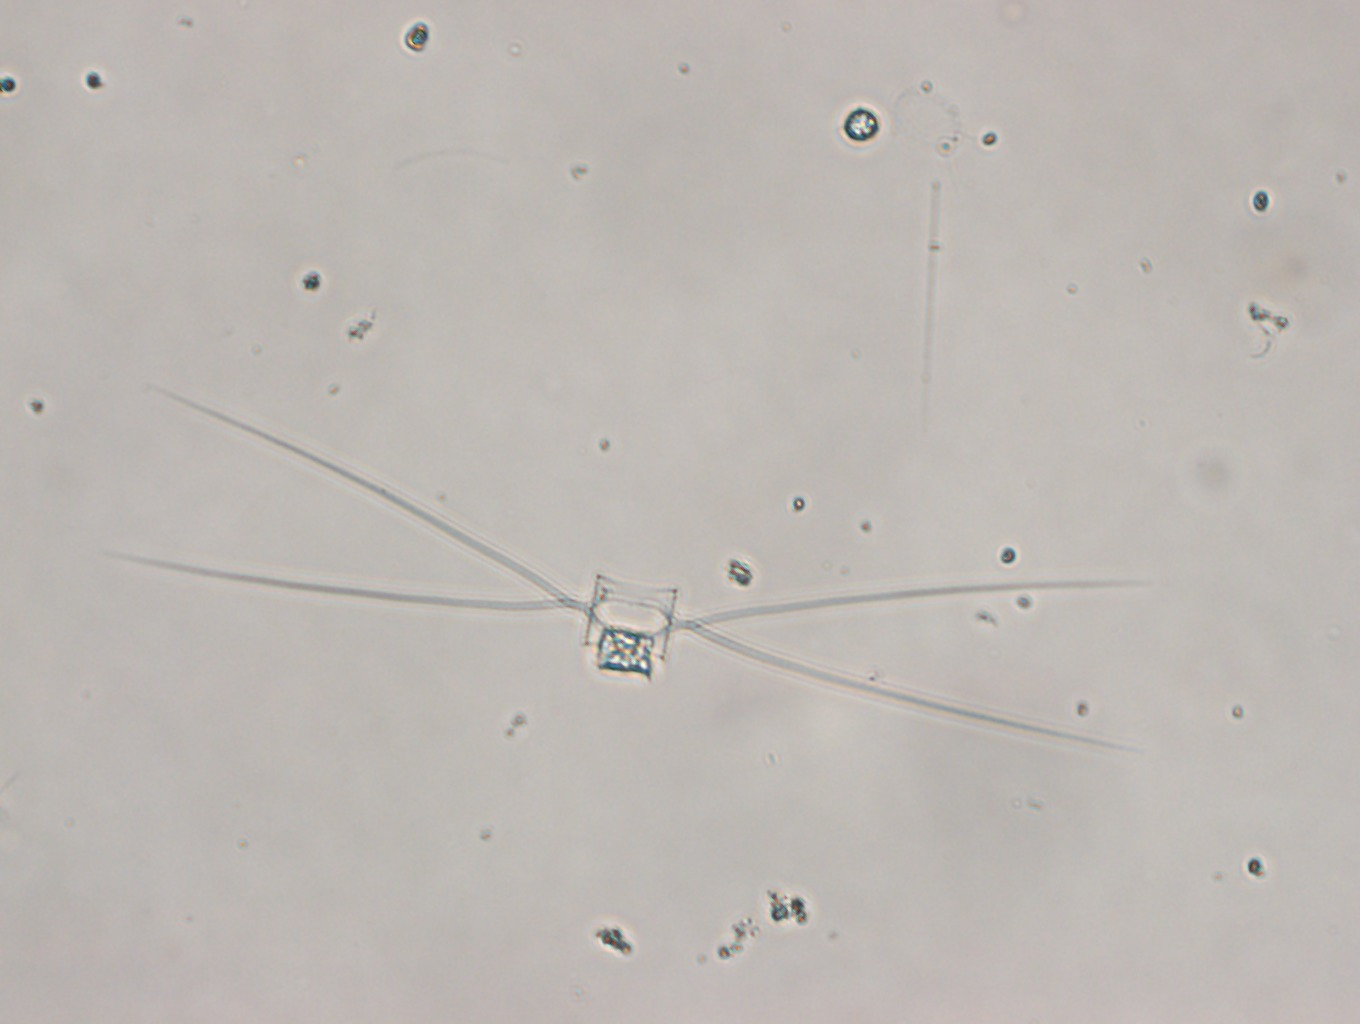chaetoceros: (100, 361, 1154, 759)
